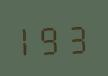nine: (42, 20, 64, 55)
one: (18, 21, 40, 56)
three: (65, 19, 87, 54)
